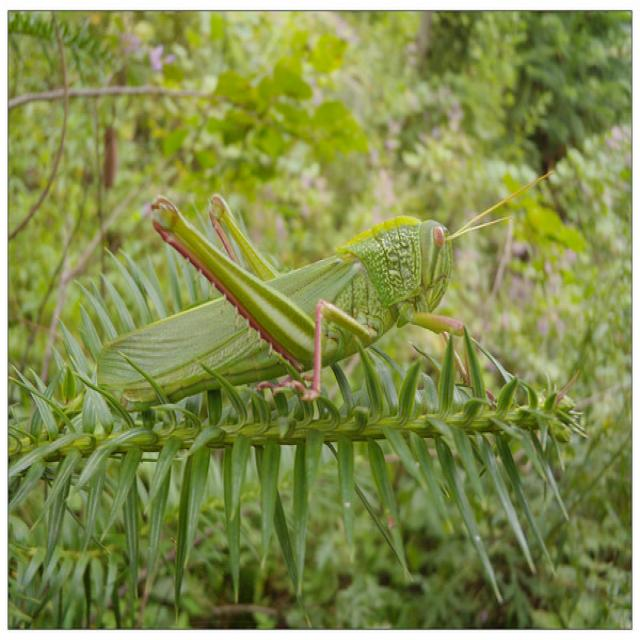ZhaMeng: (74, 184, 557, 426)
